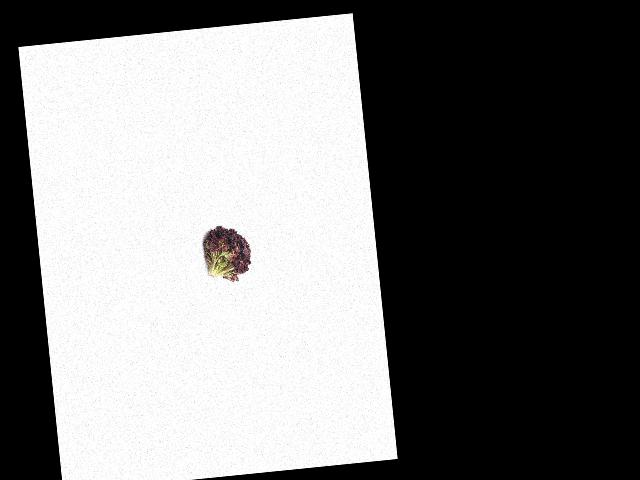lettuce: (197, 220, 255, 281)
